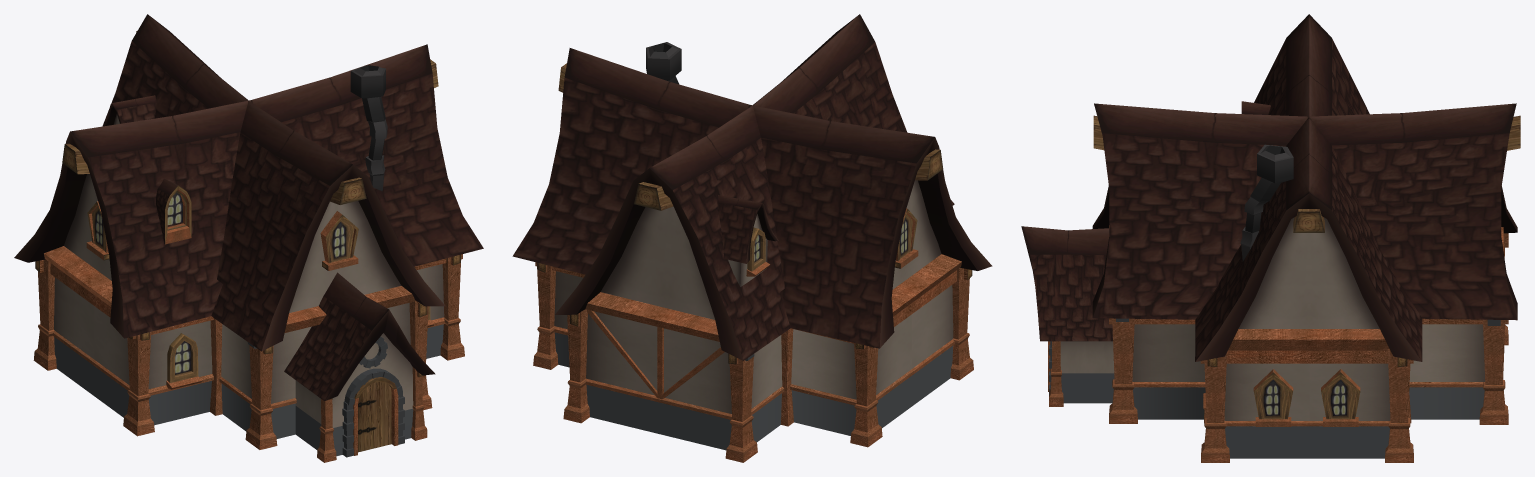
The model's file is fanasty_mod_village_building_01.fbx.
3 renders of one model, left to right at view 1: azimuth 30°, elevation 25°; view 2: azimuth 150°, elevation 25°; view 3: azimuth 270°, elevation 25°, orthographic. The views are drawn at different scales.
Visible parts, largest first — view 1: village_building_01; view 2: village_building_01; view 3: village_building_01.
Boxes of the visible parts, left/top/right/bottom form: village_building_01: left=14, top=14, right=483, bottom=462; village_building_01: left=512, top=14, right=992, bottom=462; village_building_01: left=1021, top=14, right=1520, bottom=462.
Size of the model in its own units: 12.64 by 9.24 by 14.71.
